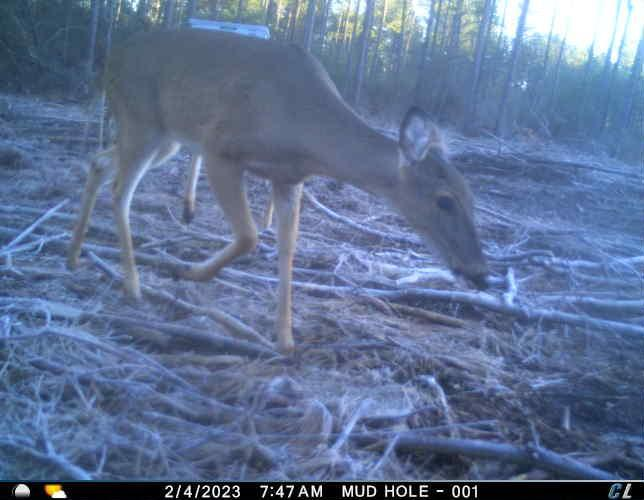Deer: (61, 25, 493, 361)
